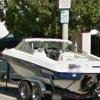Boat: (3, 31, 100, 100)
